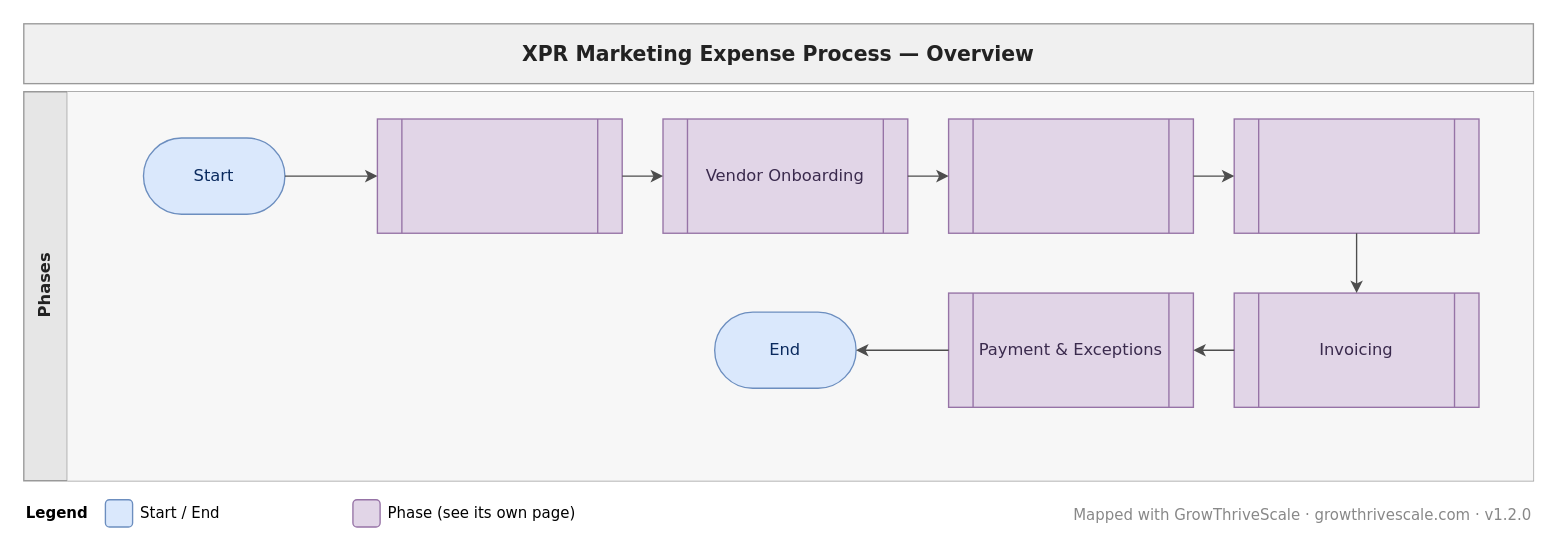
Image size: 1557x554. Some labels were removed from this diagram. Each missing label, with the centre of its shape:
Expense Request: the point at 499,175
Non-Catalog Request: the point at 1070,175
PO Approval & Issuance: the point at 1356,175
